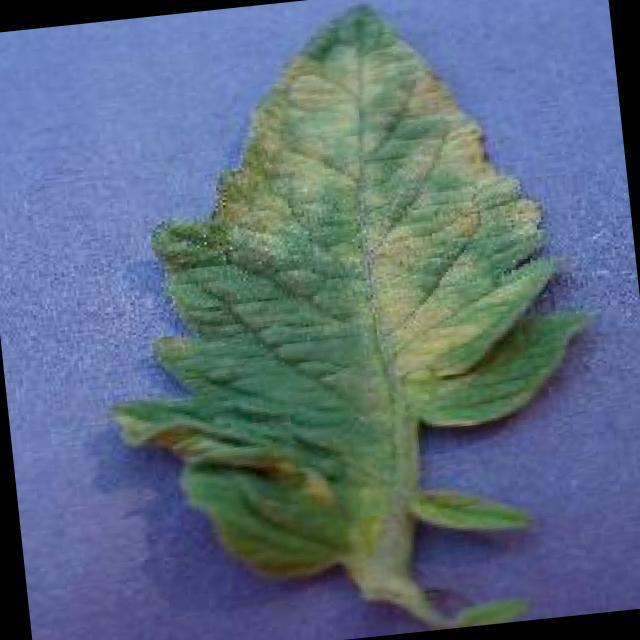Tomato mold leaf: (68, 0, 612, 599)
